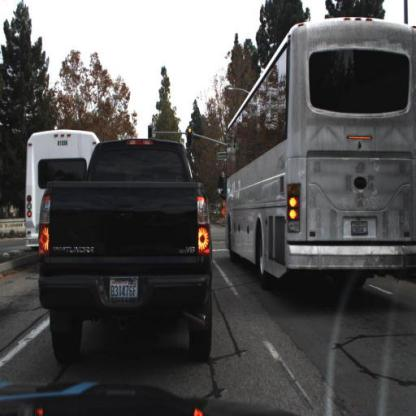car: (43, 141, 210, 352)
trafficLight: (149, 123, 154, 141), (188, 128, 193, 146)
trafficLight-Red: (187, 125, 194, 144)
truck: (224, 20, 416, 293)
